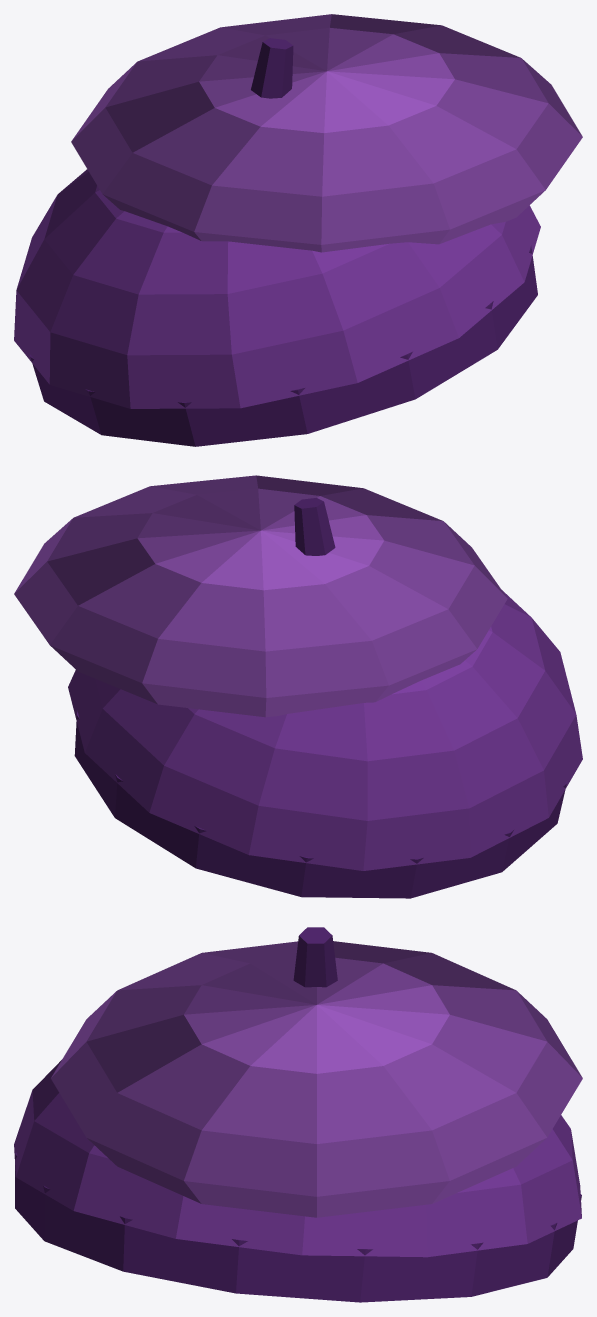
Rendered from berretto.glb.
3 renders of one model, top to bottom at view 1: azimuth 30°, elevation 25°; view 2: azimuth 150°, elevation 25°; view 3: azimuth 270°, elevation 25°, orthographic. The views are drawn at different scales.
Visible parts, largest first — view 1: berretto2; view 2: berretto2; view 3: berretto2.
Boxes of the visible parts, box(x1,y1,x2,y2) form: berretto2: box(14, 14, 582, 446); berretto2: box(14, 475, 582, 898); berretto2: box(14, 927, 582, 1302).
Size of the model in its own units: 0.4565 by 0.2716 by 0.4063.
